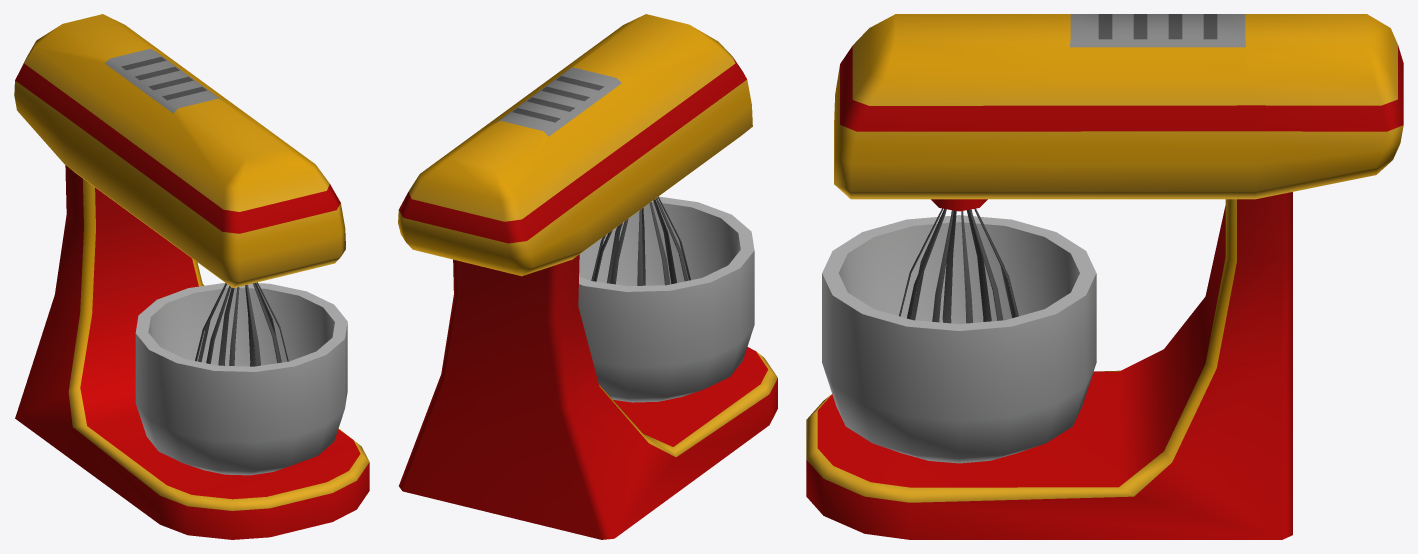
The model's file is Station Classic Cake.fbx.
3 views of the same model, side by side, from view 1: azimuth 30°, elevation 25°; view 2: azimuth 150°, elevation 25°; view 3: azimuth 270°, elevation 25° (orthographic). The views are drawn at different scales.
Visible parts, largest first — view 1: Station_Classic_Cake_Machine; view 2: Station_Classic_Cake_Machine; view 3: Station_Classic_Cake_Machine.
Part boxes in pixels (left/top/right/bottom): Station_Classic_Cake_Machine: left=14, top=14, right=369, bottom=539; Station_Classic_Cake_Machine: left=398, top=14, right=777, bottom=539; Station_Classic_Cake_Machine: left=806, top=14, right=1403, bottom=539.
Size of the model in its own units: 101 by 168 by 202.
